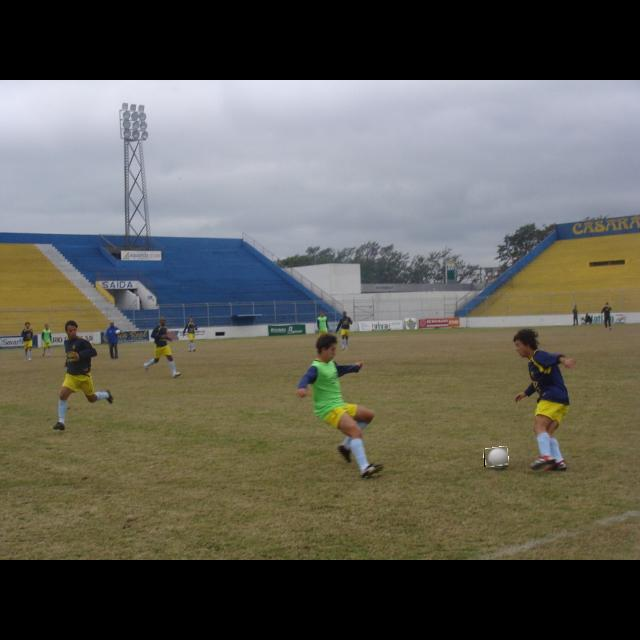Football: (484, 447, 508, 467)
